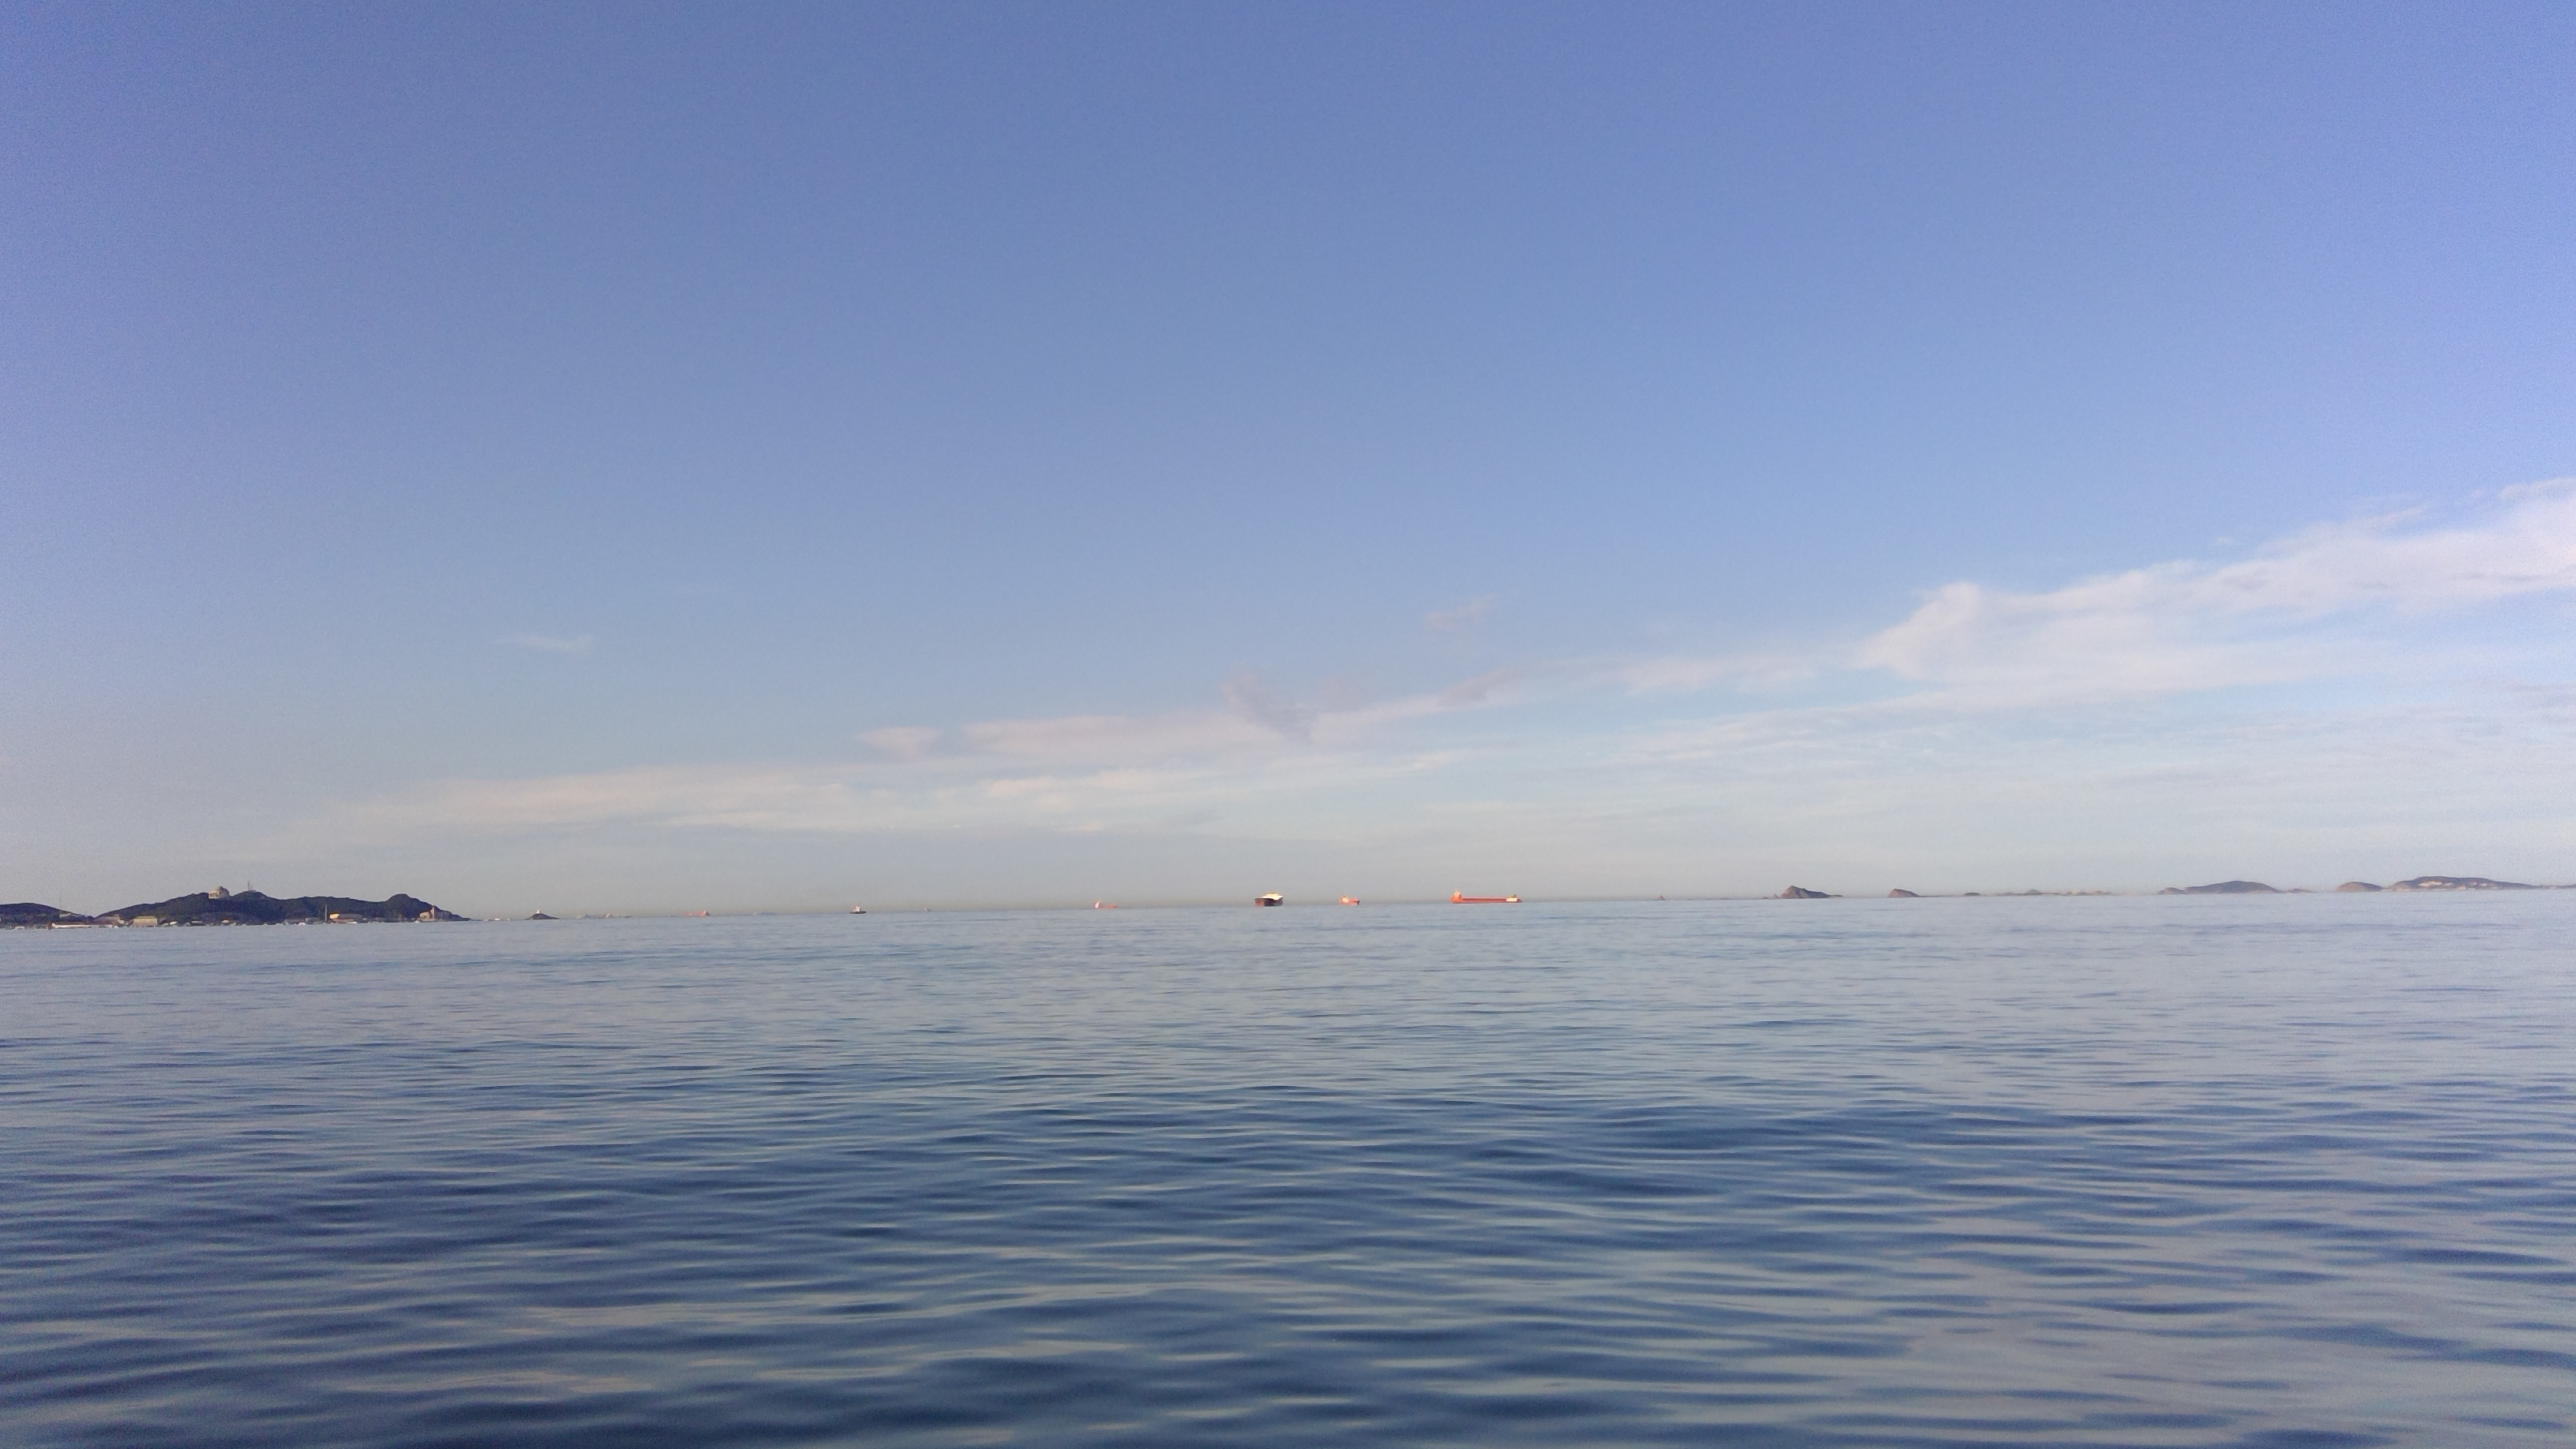boat: (1242, 876, 1292, 911)
platform: (1440, 881, 1532, 913)
rock: (5, 879, 472, 931), (2332, 863, 2567, 901), (2151, 862, 2282, 904), (1775, 872, 1844, 922), (525, 904, 570, 934)
